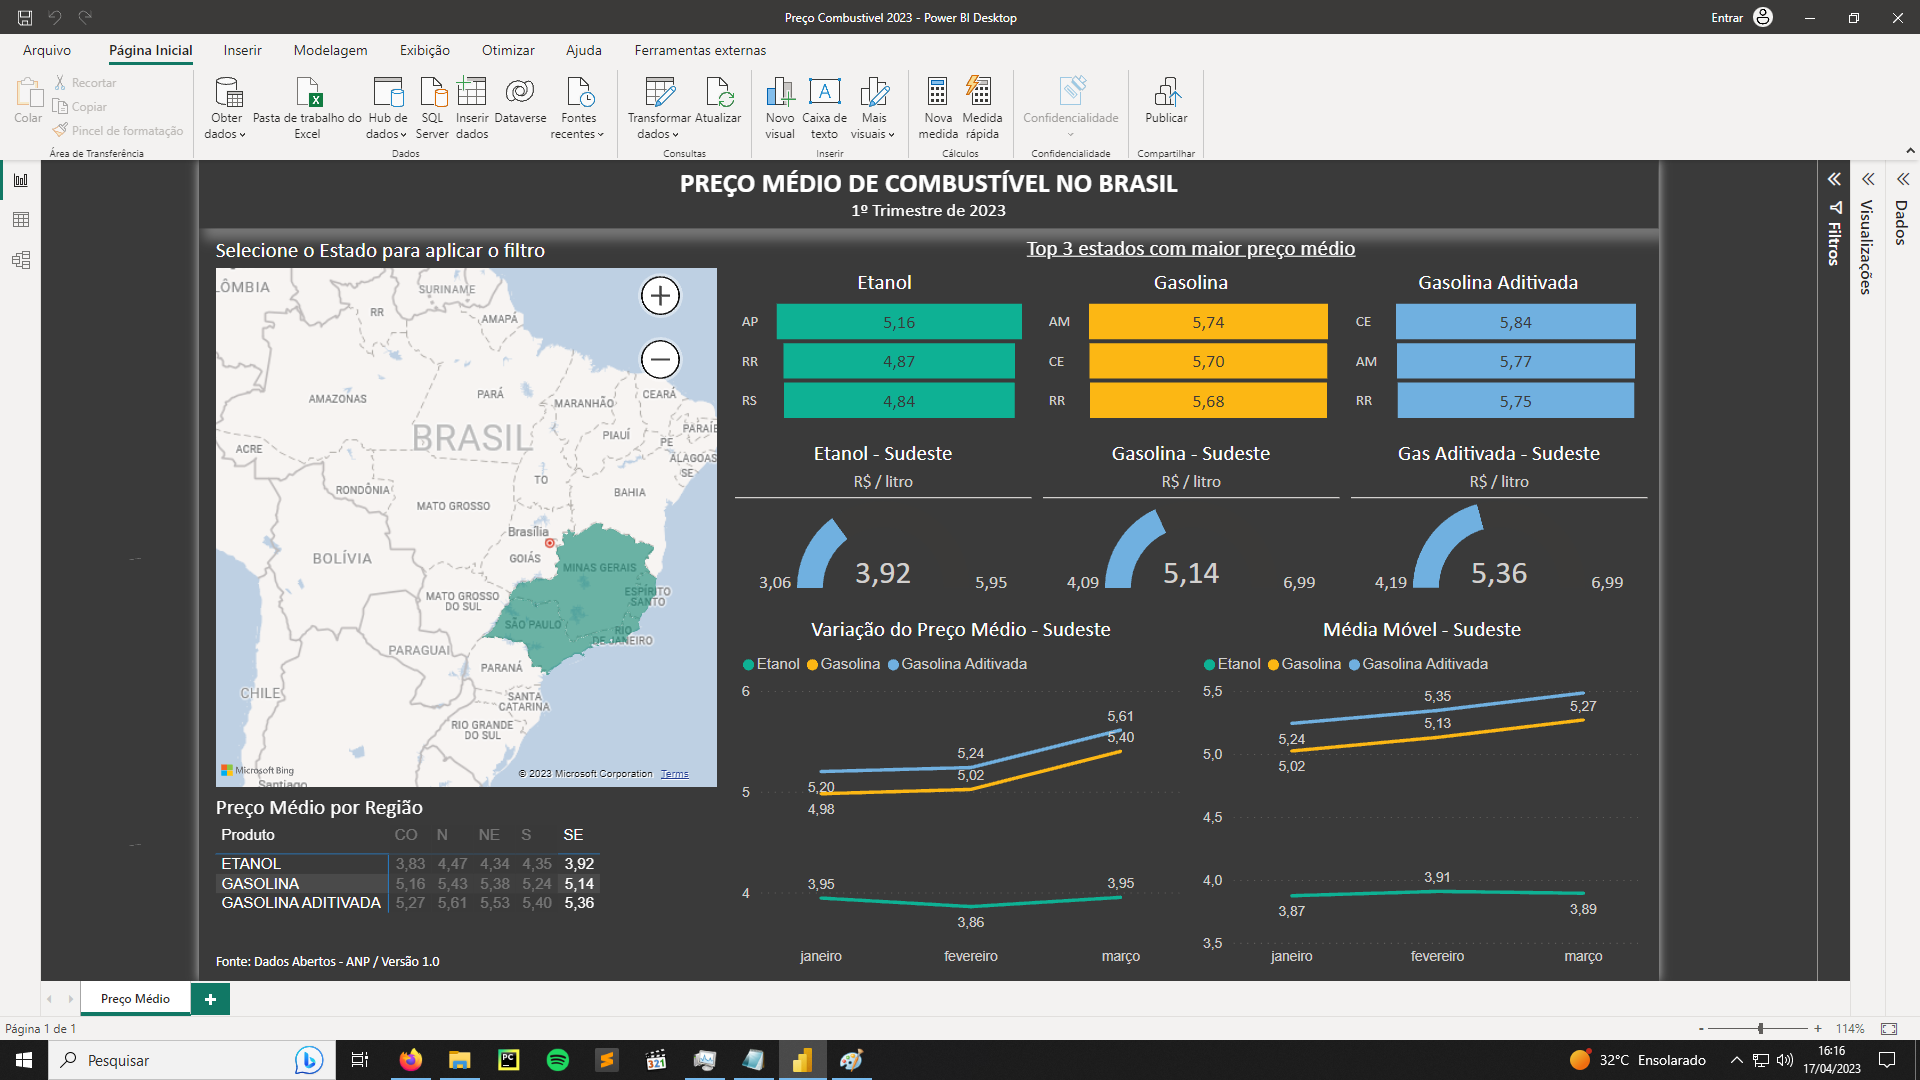

Layout of this report page (visuals, bound fields, positions):
{"tool":"powerbi","page":{"name":"Preço Médio","canvas":[1280,720],"ordinal":0},"visuals":[{"type":"lineChart","fields":{"Category":["preco_tratado.Data_Coleta.Variation.Hierarquia de datas.Mês","preco_tratado.Data_Coleta.Variation.Hierarquia de datas.Dia"],"Y":["Medidas.MediaNacEtanol","Medidas.MediaNacGasComum","Medidas.MediaNacGasAdit"]},"box":[470.9,395,395,320],"z":0},{"type":"lineChart","fields":{"Y":["Medidas.Média móvel de MediaNacEtanol","Medidas.Média móvel de MediaNacGasComum","Medidas.Média móvel de MediaNacGasAdit"],"Category":["preco_tratado.Data_Coleta.Variation.Hierarquia de datas.Mês","preco_tratado.Data_Coleta.Variation.Hierarquia de datas.Dia"]},"box":[874.9,395,395.1,320],"z":1000},{"type":"filledMap","title":"Selecione o Estado para aplicar o filtro","fields":{"Category":["preco_tratado.Estado"]},"box":[10,65,450,490],"z":2000},{"type":"pivotTable","fields":{"Rows":["preco_tratado.Produto"],"Columns":["preco_tratado.Regiao"],"Values":["Medidas.MediaValorVenda"]},"box":[10,554.7,450,123.7],"z":3000},{"type":"funnel","title":"Gasolina ","fields":{"Category":["TOPMediaGas.Estado"],"Y":["Avg(TOPMediaGas.GAS)"]},"box":[740.2,95,260,140.1],"z":4000},{"type":"textbox","box":[0,0,1280,60],"z":5000},{"type":"funnel","title":"Gasolina Aditivada","fields":{"Category":["TOPMediaGasAdit.Estado"],"Y":["Avg(TOPMediaGasAdit.GAS_ADIT)"]},"box":[1009.6,95,260.7,140.1],"z":6000},{"type":"funnel","title":"Etanol","fields":{"Category":["TOPMediaEtanol.Estado"],"Y":["Avg(TOPMediaEtanol.ETANOL)"]},"box":[470.8,95,260.7,140.1],"z":7000},{"type":"textbox","title":"Top 3 estados com maior preço médio","box":[470.2,65,800.1,30],"z":8000},{"type":"textbox","box":[10,690,225.5,25.9],"z":9000},{"type":"textbox","box":[470,245.1,260,52],"z":10000},{"type":"gauge","fields":{"Y":["Medidas.MediaNacEtanol"],"MinValue":["Medidas.MinMediaNacEtanol"],"MaxValue":["Medidas.MaxMediaNacEtanol"]},"box":[470,297.6,259.7,87.5],"z":11000},{"type":"textbox","box":[740,245,260,52],"z":12000},{"type":"gauge","fields":{"Y":["Medidas.MediaNacGasComum"],"MinValue":["Medidas.MinMediaNacGas"],"MaxValue":["Medidas.MaxMediaNacGas"]},"box":[740,297,259.7,87.5],"z":13000},{"type":"textbox","box":[1010.7,245,260,52],"z":14000},{"type":"gauge","fields":{"Y":["Medidas.MediaNacGasAdit"],"MinValue":["Medidas.MinMediaNacGasAdt"],"MaxValue":["Medidas.MaxMediaNacGasAdt"]},"box":[1010.7,297,259.7,87.5],"z":15000}]}

Visuals, with their boxes on the page's 1280x720 design canvas (x1, y1, x2, y2). These are canvas units, not pixel positions in the 1920x1080 screenshot, which may show the page scaled, cropped or inside an application window:
lineChart - preco_tratado.Data_Coleta.Variation.Hierarquia de datas.Mês x preco_tratado.Data_Coleta.Variation.Hierarquia de datas.Dia: 471 395 866 715
lineChart - Medidas.Média móvel de MediaNacEtanol x Medidas.Média móvel de MediaNacGasComum: 875 395 1270 715
"Selecione o Estado para aplicar o filtro" filledMap: 10 65 460 555
pivotTable - preco_tratado.Produto x preco_tratado.Regiao: 10 555 460 678
"Gasolina " funnel: 740 95 1000 235
textbox: 0 0 1280 60
"Gasolina Aditivada" funnel: 1010 95 1270 235
"Etanol" funnel: 471 95 732 235
"Top 3 estados com maior preço médio" textbox: 470 65 1270 95
textbox: 10 690 236 716
textbox: 470 245 730 297
gauge - Medidas.MediaNacEtanol x Medidas.MinMediaNacEtanol: 470 298 730 385
textbox: 740 245 1000 297
gauge - Medidas.MediaNacGasComum x Medidas.MinMediaNacGas: 740 297 1000 384
textbox: 1011 245 1271 297
gauge - Medidas.MediaNacGasAdit x Medidas.MinMediaNacGasAdt: 1011 297 1270 384
